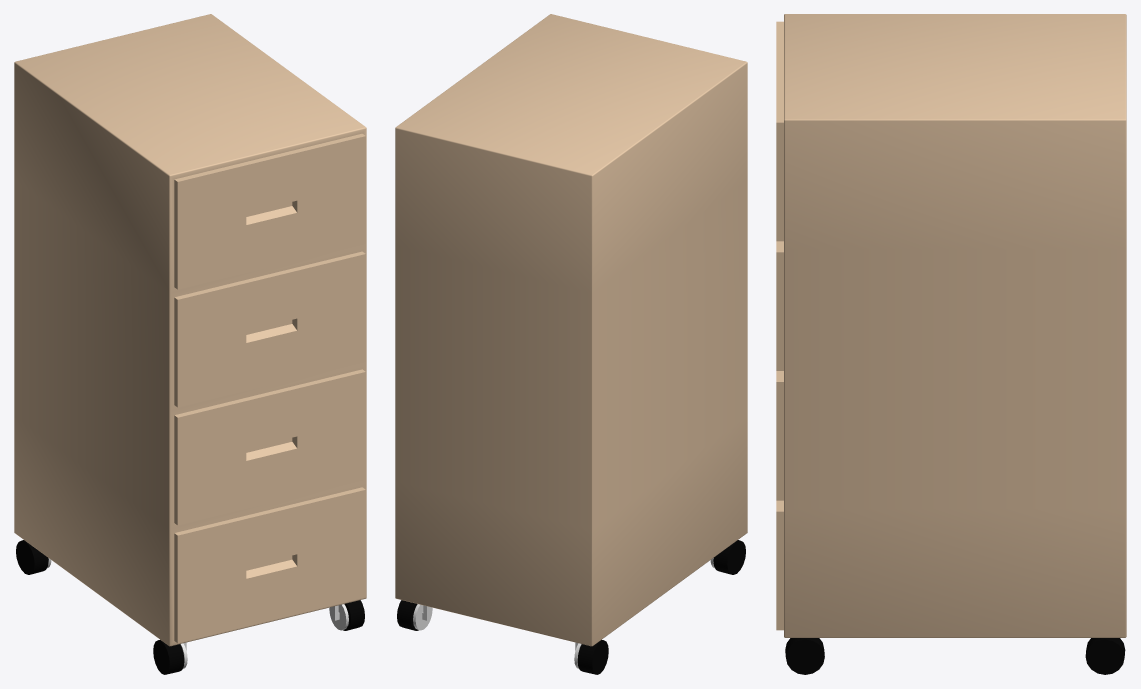
File: Filing Cabinet.fbx
The picture shows the model from 3 angles, left to right: view 1: azimuth 30°, elevation 25°; view 2: azimuth 150°, elevation 25°; view 3: azimuth 270°, elevation 25°; orthographic projection. The views are drawn at different scales.
Parts seen in each view (by area): view 1: Filing Cabinet; view 2: Filing Cabinet; view 3: Filing Cabinet.
Boxes of the visible parts, x1=… form: Filing Cabinet: x1=14, y1=14, x2=366, y2=674; Filing Cabinet: x1=395, y1=14, x2=747, y2=674; Filing Cabinet: x1=776, y1=14, x2=1126, y2=674.
Size of the model in its own units: 40.97 by 100 by 57.11.
